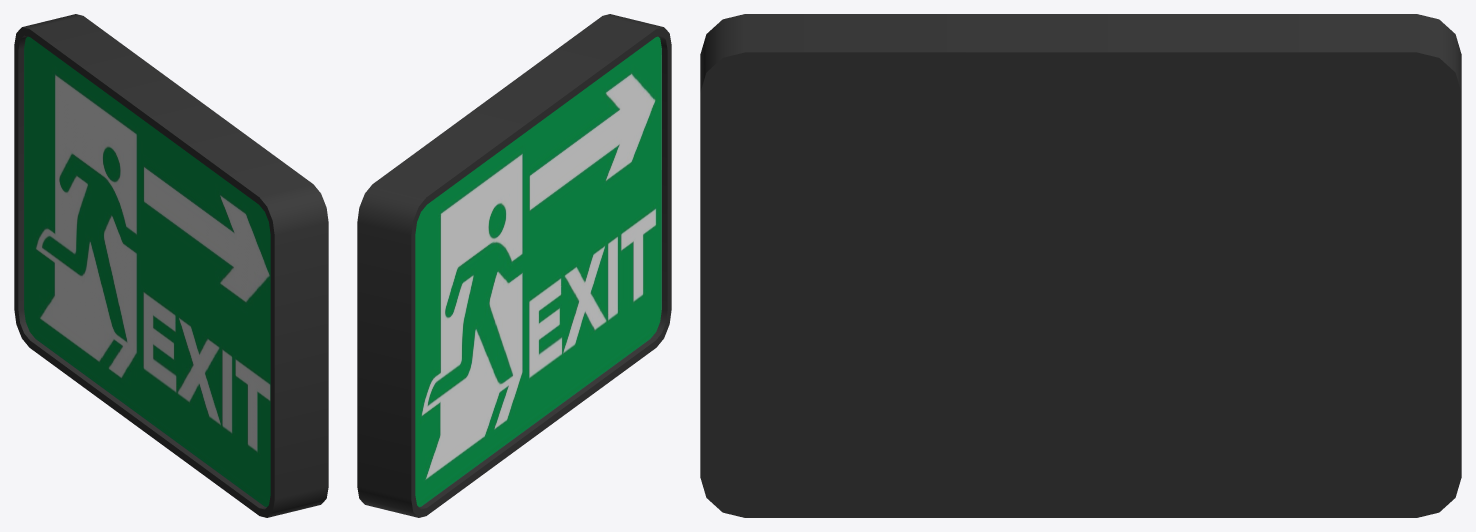
File: Exit.fbx
3 views of the same model, side by side, from view 1: azimuth 30°, elevation 25°; view 2: azimuth 150°, elevation 25°; view 3: azimuth 270°, elevation 25° (orthographic). The views are drawn at different scales.
Parts seen in each view (by area): view 1: F_Exit_02; view 2: F_Exit_02; view 3: F_Exit_02.
Boxes of the visible parts, x1,y1,x2,y2 form: F_Exit_02: [14, 14, 328, 517]; F_Exit_02: [357, 14, 671, 517]; F_Exit_02: [700, 14, 1461, 517].
Bounding box in the file's own units: 4.8 × 27.08 × 40.13.
1 material, 1 textured.
